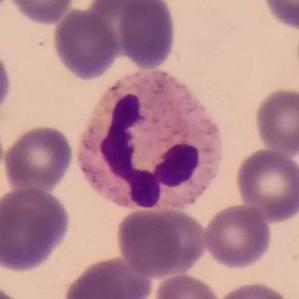Neutrophil: (72, 62, 231, 216)
RBC: (0, 184, 73, 274), (114, 205, 203, 278), (50, 6, 121, 82), (1, 123, 76, 192), (233, 146, 299, 224), (201, 203, 274, 270), (116, 0, 177, 70), (60, 254, 152, 299), (251, 86, 299, 156), (152, 272, 223, 299), (5, 0, 76, 26), (215, 280, 294, 299), (259, 0, 299, 32), (0, 45, 14, 121), (293, 17, 299, 93)
